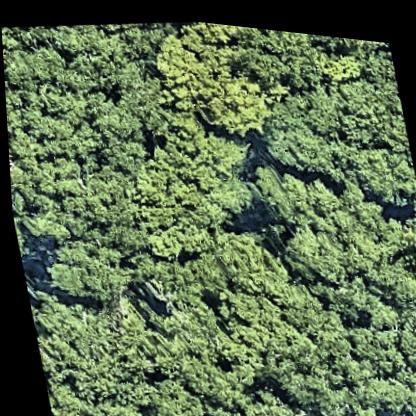tree-top: (206, 274, 333, 399), (32, 289, 154, 413), (119, 138, 237, 261), (307, 269, 410, 404), (148, 294, 244, 408), (4, 80, 101, 187), (316, 57, 408, 149), (40, 233, 135, 313), (195, 216, 284, 300), (251, 84, 332, 171), (242, 153, 331, 232), (145, 25, 217, 115), (197, 59, 271, 142), (235, 21, 317, 90), (271, 216, 344, 285), (148, 250, 218, 316), (110, 61, 171, 132), (358, 134, 416, 207), (128, 363, 206, 416), (56, 42, 120, 104), (42, 378, 145, 416), (227, 376, 323, 416), (17, 193, 76, 253), (36, 252, 89, 305), (310, 378, 378, 416), (182, 16, 260, 49), (385, 287, 416, 370), (42, 20, 93, 62), (306, 27, 386, 52)
